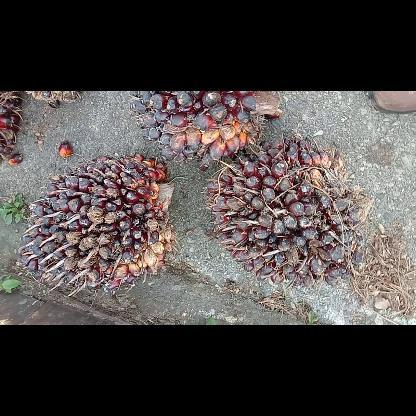TBS mentah: (206, 138, 366, 286), (23, 154, 174, 290), (131, 91, 282, 169)
